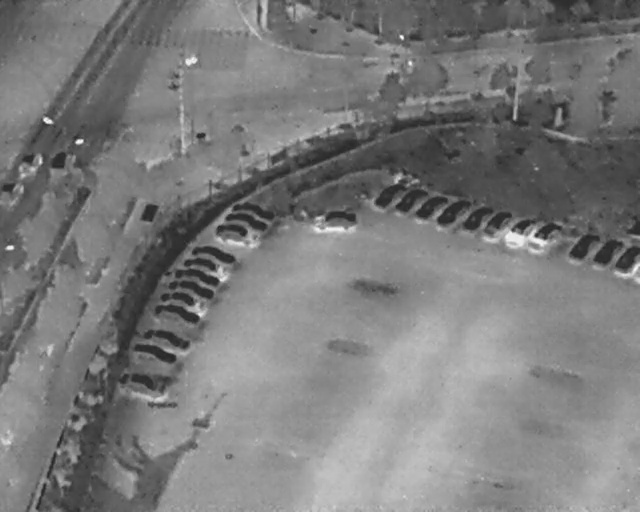Car: (112, 365, 171, 401), (432, 190, 476, 234), (410, 185, 453, 229), (210, 215, 261, 251), (125, 337, 181, 369), (150, 297, 204, 330), (500, 208, 542, 250), (368, 171, 409, 214), (390, 178, 431, 220), (458, 196, 499, 238), (188, 237, 239, 270), (564, 223, 603, 266), (140, 323, 194, 354), (164, 273, 218, 304), (227, 193, 279, 225), (168, 261, 223, 291), (478, 203, 518, 244), (221, 204, 271, 236), (526, 213, 565, 253), (590, 231, 627, 272), (154, 283, 204, 313), (178, 249, 228, 277), (312, 208, 358, 233), (613, 242, 639, 277), (0, 179, 26, 208), (17, 150, 44, 176)
